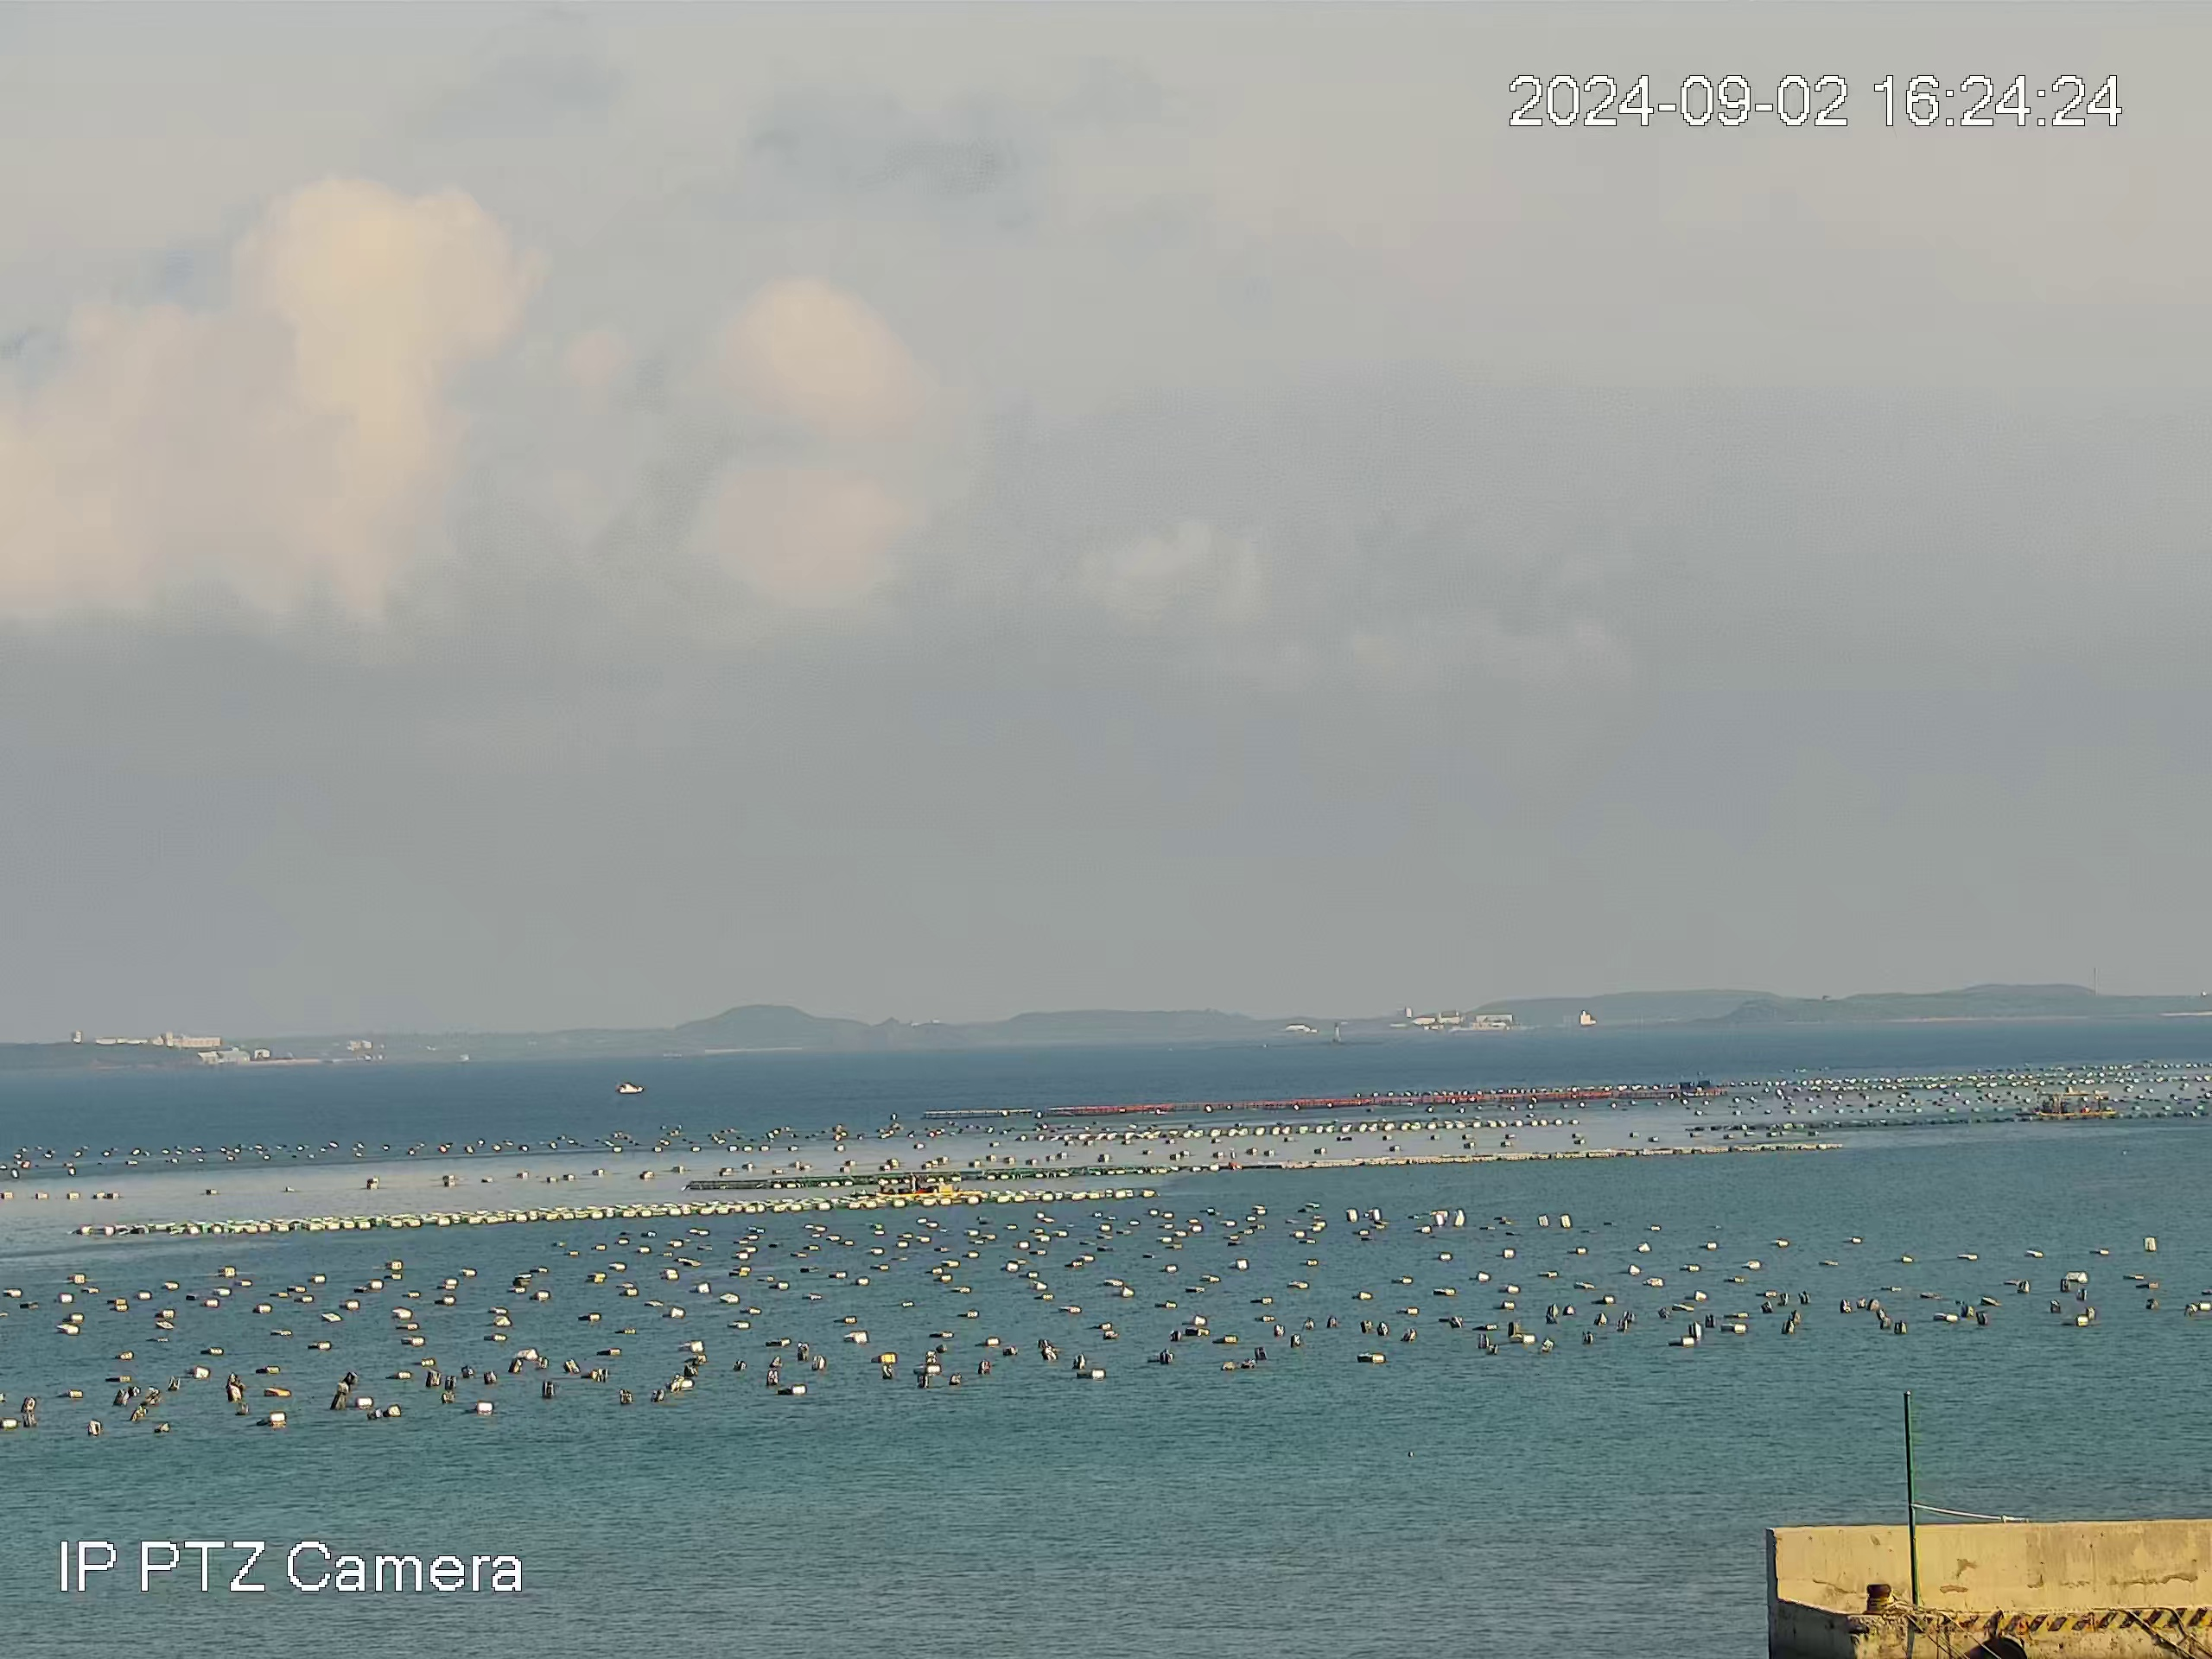boat: (874, 1173, 982, 1198), (2033, 1090, 2117, 1120), (616, 1080, 645, 1096)
